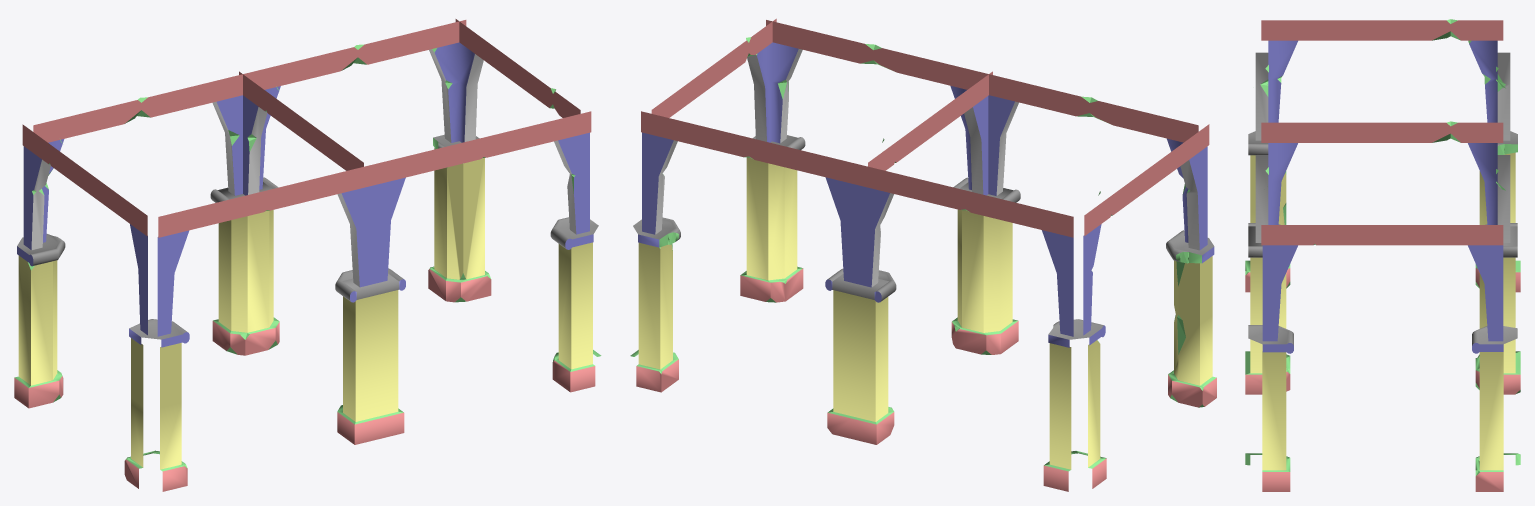
File: SSQ_crossway01_1.gltf
3 views of the same model, side by side, from view 1: azimuth 30°, elevation 25°; view 2: azimuth 150°, elevation 25°; view 3: azimuth 270°, elevation 25° (orthographic). The views are drawn at different scales.
Parts seen in each view (by area): view 1: SSQ_crossway01_1; view 2: SSQ_crossway01_1; view 3: SSQ_crossway01_1.
Boxes of the visible parts, <box> form: SSQ_crossway01_1: <box>14,19,601,491</box>; SSQ_crossway01_1: <box>630,18,1216,491</box>; SSQ_crossway01_1: <box>1245,19,1520,491</box>.
Size of the model in its own units: 6.84 by 3.84 by 3.64.
